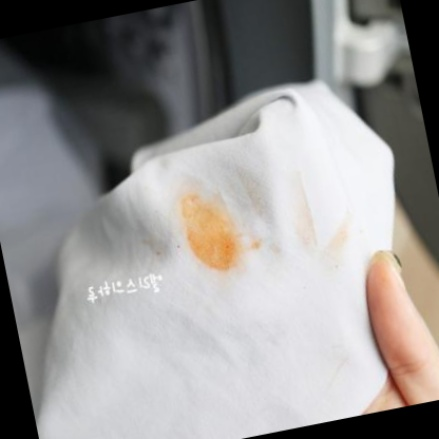kimchi: (173, 184, 255, 277), (276, 178, 331, 256), (312, 206, 360, 264), (244, 225, 272, 254), (147, 240, 166, 263), (172, 237, 182, 250)
